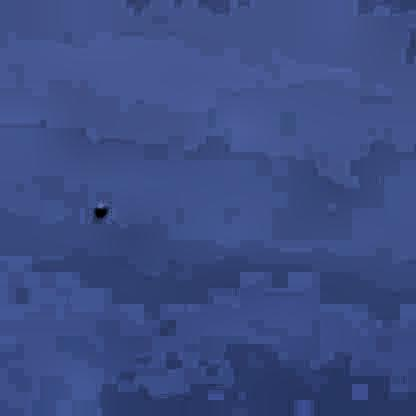golfball: (92, 197, 105, 213)
